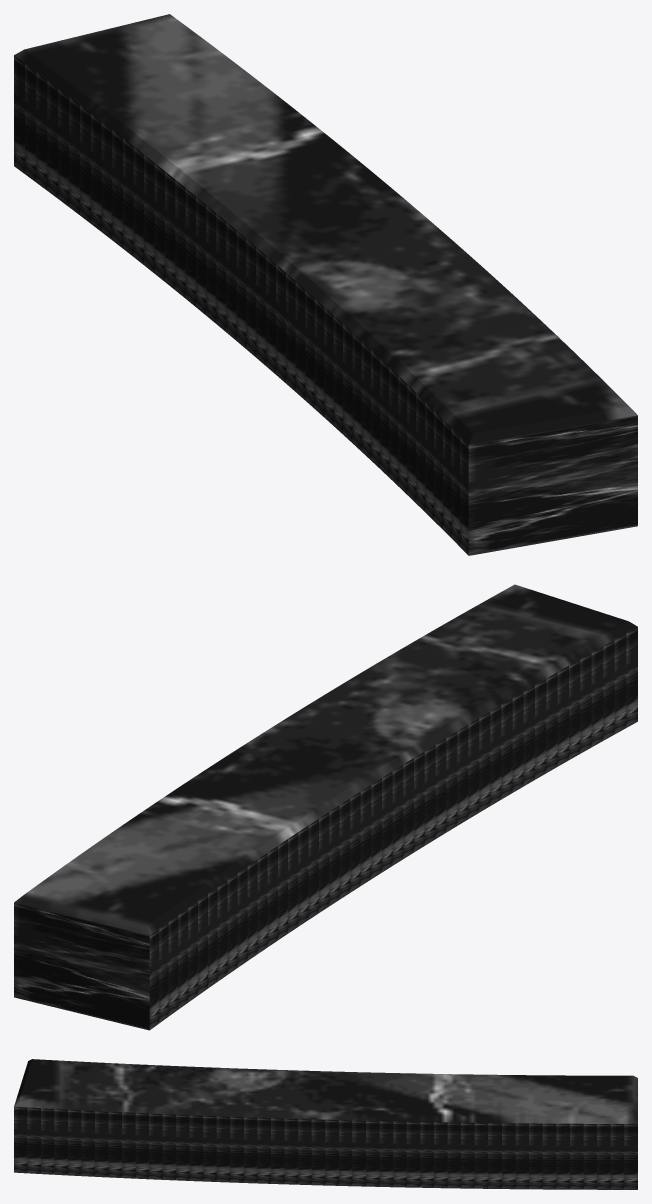
File: f02-black-marble-pool-trim-1m.glb
The picture shows the model from 3 angles, top to bottom: view 1: azimuth 30°, elevation 25°; view 2: azimuth 150°, elevation 25°; view 3: azimuth 270°, elevation 25°; orthographic projection. The views are drawn at different scales.
Visible parts, largest first — view 1: f02-black-marble-pool-trim-1m; view 2: f02-black-marble-pool-trim-1m; view 3: f02-black-marble-pool-trim-1m.
Boxes of the visible parts, x1,y1,x2,y2 form: f02-black-marble-pool-trim-1m: (14, 14, 637, 555); f02-black-marble-pool-trim-1m: (14, 584, 637, 1030); f02-black-marble-pool-trim-1m: (14, 1059, 637, 1189).
Bounding box in the file's own units: 0.2598 × 0.135 × 1.09.
1 material, 1 textured.
